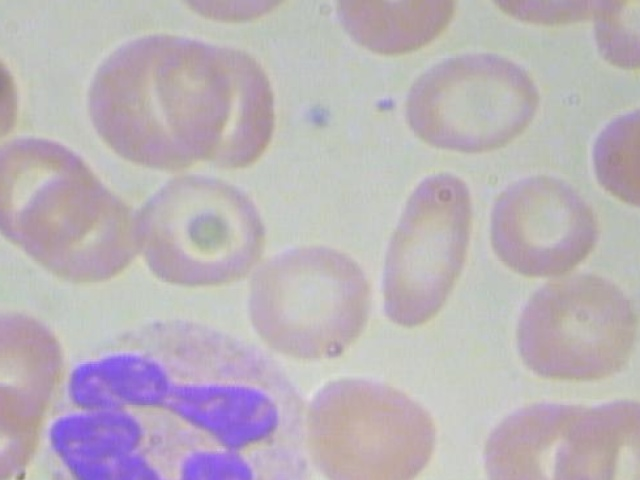Platelets: (296, 96, 339, 135)
RBC: (63, 26, 226, 175), (390, 37, 549, 161), (123, 169, 280, 288), (376, 163, 479, 338), (299, 367, 450, 480), (159, 37, 281, 175), (501, 271, 640, 392), (243, 244, 383, 364), (479, 174, 605, 286), (0, 135, 98, 245), (572, 84, 640, 217), (0, 300, 67, 427), (552, 387, 640, 480), (0, 378, 50, 480)
WBC: (39, 312, 332, 480)
